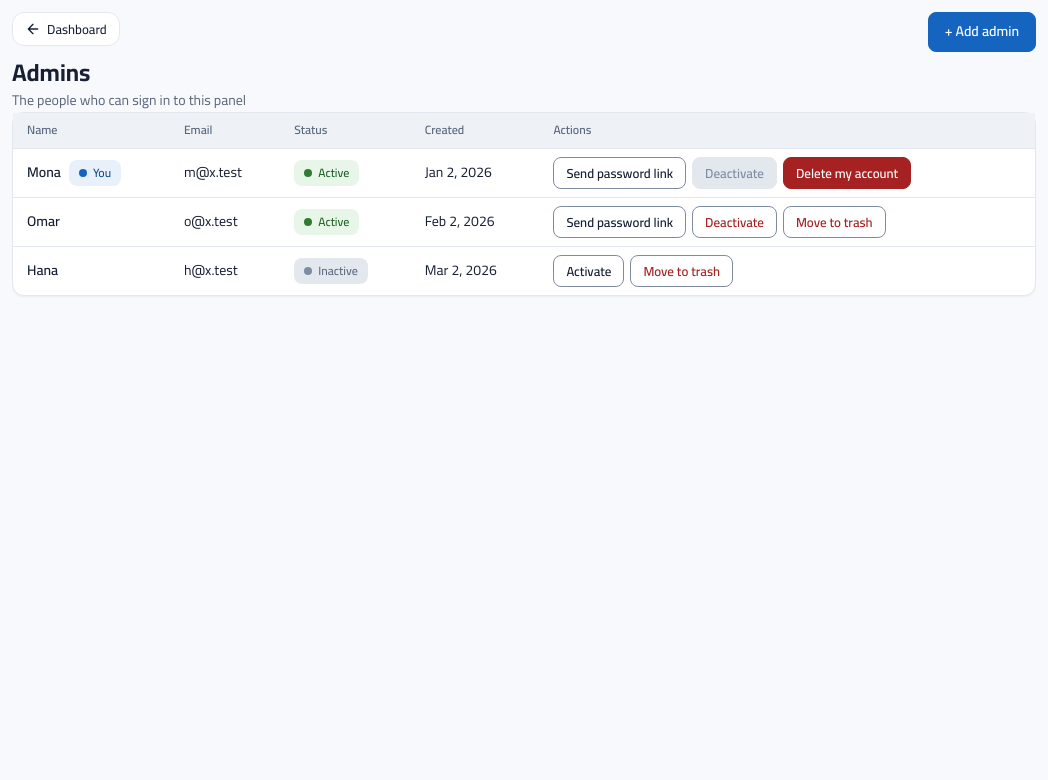
Test case: the admins page › says when the link could not be sent, or was asked for too often
Click the button "Send password link" in the row of "Omar".
click(620, 222)  # box [553,206,686,238]
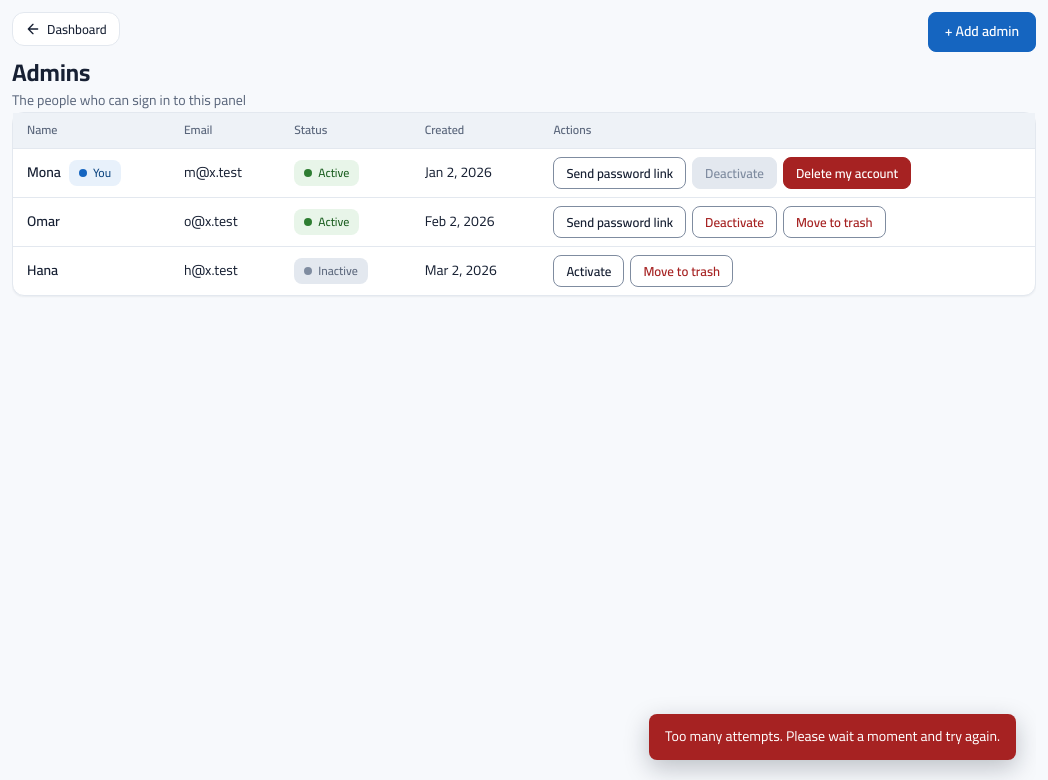
Now the text "Too many attempts. Please wait a moment and try again." is shown, box [649,714,1016,760]
Click the button "Send password link" in the row of "Omar".
click(620, 222)  # box [553,206,686,238]
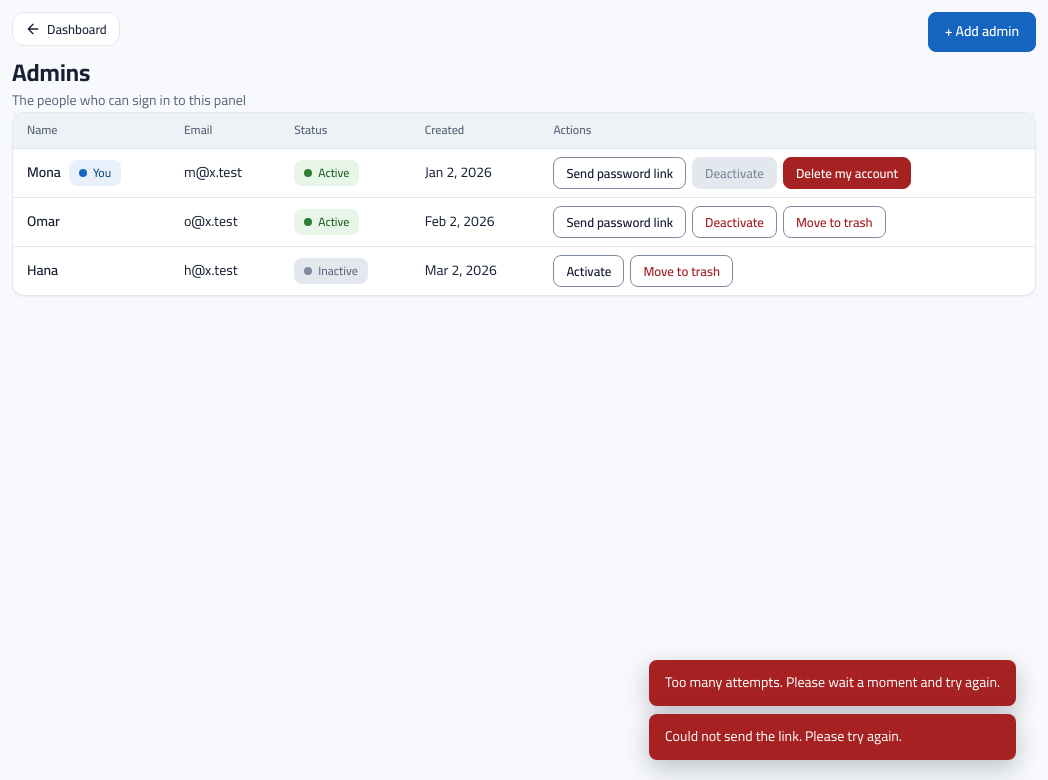
Now the text "Could not send the link. Please try again." is shown, box [649,714,1016,760]
